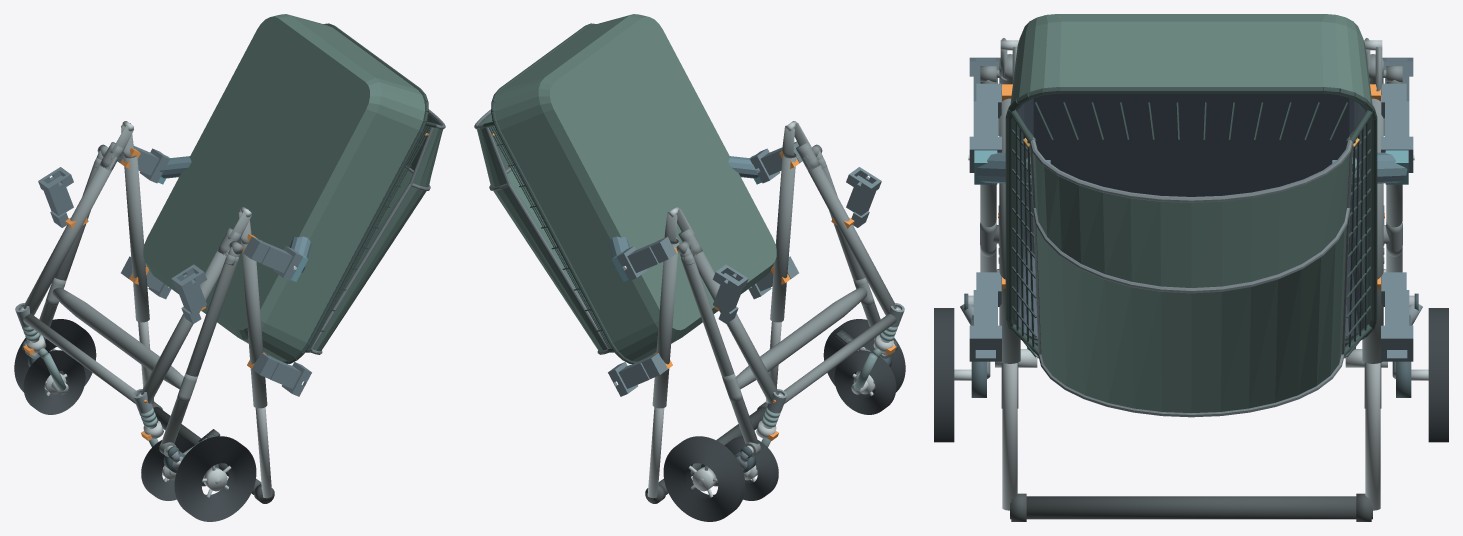
File: S04_w650_state3_wheel_S.glb
The picture shows the model from 3 angles, left to right: view 1: azimuth 30°, elevation 25°; view 2: azimuth 150°, elevation 25°; view 3: azimuth 270°, elevation 25°; orthographic projection. The views are drawn at different scales.
Visible parts, largest first — view 1: S04_Cabin, RL_tire.008, FR_tire.008, V46_rearbar.009, main_lower_1.009, main_upper_1.009, V46_rear_leg_-1.009, main_upper_-1.009, main_lower_-1.009, front_fixed_round_tube.008, RR_tire.008, FL_tire.008 (+10 smaller); view 2: S04_Cabin, RR_tire.008, FL_tire.008, V46_rearbar.009, main_lower_-1.009, main_upper_-1.009, V46_rear_leg_1.009, main_upper_1.009, main_lower_1.009, front_fixed_round_tube.008, FR_tire.008, RL_tire.008 (+10 smaller); view 3: S04_Cabin, round_handle.008, RL_tire.008, RR_tire.008, Universal_Cabin_Receiver_H_1, Universal_Cabin_Receiver_H_-1, S04_Cabin_Mount_M, handle_slider_1.008, handle_slider_-1.008, Universal_Cabin_Receiver_M_-1, Universal_Cabin_Receiver_M_1, main_upper_1.009 (+7 smaller).
Part boxes in pixels (bbox=[...]): S04_Cabin: bbox=[143, 14, 445, 363]; RL_tire.008: bbox=[174, 436, 256, 521]; FR_tire.008: bbox=[23, 350, 85, 414]; V46_rearbar.009: bbox=[52, 287, 183, 389]; main_lower_1.009: bbox=[23, 157, 116, 315]; main_upper_1.009: bbox=[123, 156, 149, 322]; V46_rear_leg_-1.009: bbox=[161, 253, 238, 444]; main_upper_-1.009: bbox=[241, 242, 267, 408]; main_lower_-1.009: bbox=[140, 249, 229, 403]; front_fixed_round_tube.008: bbox=[23, 314, 135, 403]; RR_tire.008: bbox=[14, 319, 96, 393]; FL_tire.008: bbox=[141, 436, 194, 500]; S04_Cabin: bbox=[474, 14, 776, 363]; RR_tire.008: bbox=[663, 436, 745, 521]; FL_tire.008: bbox=[834, 350, 896, 414]; V46_rearbar.009: bbox=[736, 287, 867, 389]; main_lower_-1.009: bbox=[803, 157, 896, 315]; main_upper_-1.009: bbox=[770, 156, 796, 322]; V46_rear_leg_1.009: bbox=[681, 253, 758, 444]; main_upper_1.009: bbox=[652, 240, 678, 408]; main_lower_1.009: bbox=[690, 249, 779, 403]; front_fixed_round_tube.008: bbox=[784, 314, 896, 403]; FR_tire.008: bbox=[724, 436, 778, 500]; RL_tire.008: bbox=[823, 319, 905, 393]; S04_Cabin: bbox=[1005, 14, 1377, 417]; round_handle.008: bbox=[1010, 496, 1372, 519]; RL_tire.008: bbox=[934, 308, 954, 442]; RR_tire.008: bbox=[1428, 308, 1448, 442]; Universal_Cabin_Receiver_H_1: bbox=[1381, 272, 1413, 361]; Universal_Cabin_Receiver_H_-1: bbox=[969, 272, 1001, 361]; S04_Cabin_Mount_M: bbox=[968, 150, 1414, 190]; handle_slider_1.008: bbox=[1365, 363, 1380, 510]; handle_slider_-1.008: bbox=[1002, 363, 1017, 510]; Universal_Cabin_Receiver_M_-1: bbox=[969, 83, 1001, 172]; Universal_Cabin_Receiver_M_1: bbox=[1381, 83, 1413, 172]; main_upper_1.009: bbox=[1362, 95, 1383, 363].
Size of the model in its own units: 0.9089 by 0.973 by 0.766.
